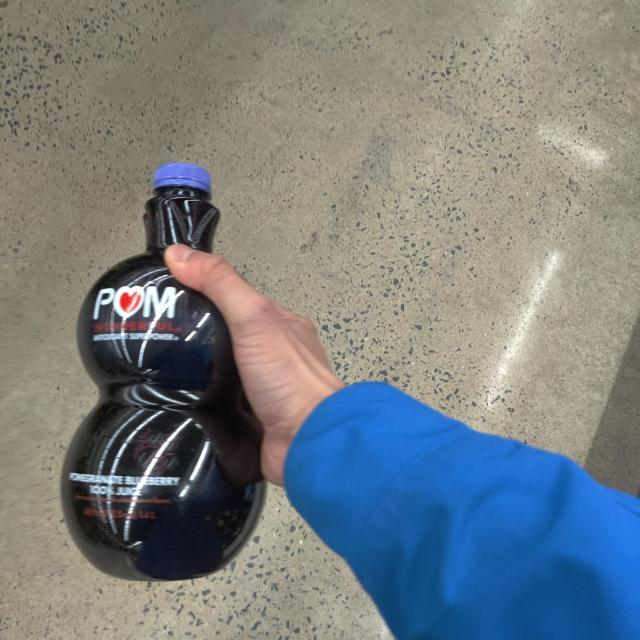Juice: (56, 149, 288, 583)
